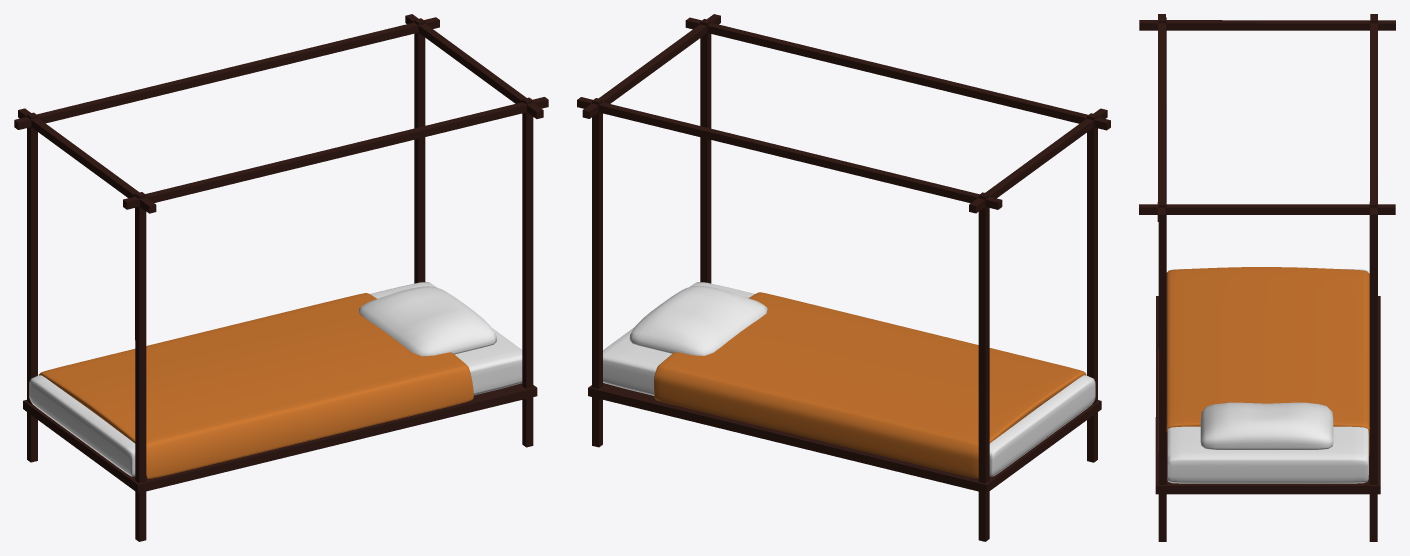
Rendered from bed.fbx.
3 views of the same model, side by side, from view 1: azimuth 30°, elevation 25°; view 2: azimuth 150°, elevation 25°; view 3: azimuth 270°, elevation 25° (orthographic). The views are drawn at different scales.
Parts seen in each view (by area): view 1: blanket, osnova.001, pillow, osnova, Cube.006, Cube.002, Cube.004, Cube.001, Cube.005, Cube.003, Cube.007, Cube.008; view 2: blanket, osnova.001, osnova, pillow, Cube.002, Cube.006, Cube.005, Cube.003, Cube.004, Cube.001, Cube.008, Cube.007; view 3: blanket, osnova.001, pillow, osnova, Cube.001, Cube.003, Cube.008, Cube.007, Cube.006, Cube.002, Cube.004.
Boxes of the visible parts, x1=… form: blanket: x1=39, y1=293, x2=473, y2=478; osnova.001: x1=29, y1=282, x2=522, y2=476; pillow: x1=358, y1=286, x2=496, y2=356; osnova: x1=23, y1=383, x2=537, y2=493; Cube.006: x1=123, y1=97, x2=548, y2=209; Cube.002: x1=14, y1=17, x2=439, y2=129; Cube.004: x1=135, y1=192, x2=146, y2=541; Cube.001: x1=522, y1=97, x2=533, y2=447; Cube.005: x1=27, y1=112, x2=37, y2=462; Cube.003: x1=414, y1=18, x2=425, y2=283; Cube.007: x1=405, y1=14, x2=543, y2=118; Cube.008: x1=18, y1=108, x2=156, y2=213; blanket: x1=654, y1=292, x2=1086, y2=478; osnova.001: x1=603, y1=282, x2=1095, y2=476; osnova: x1=588, y1=383, x2=1101, y2=493; pillow: x1=629, y1=285, x2=767, y2=355; Cube.002: x1=577, y1=97, x2=1002, y2=209; Cube.006: x1=685, y1=17, x2=1110, y2=130; Cube.005: x1=978, y1=192, x2=989, y2=541; Cube.003: x1=592, y1=98, x2=602, y2=447; Cube.004: x1=1087, y1=113, x2=1097, y2=462; Cube.001: x1=700, y1=19, x2=711, y2=283; Cube.008: x1=969, y1=108, x2=1107, y2=213; Cube.007: x1=582, y1=14, x2=720, y2=118; blanket: x1=1158, y1=267, x2=1369, y2=455; osnova.001: x1=1167, y1=269, x2=1368, y2=483; pillow: x1=1200, y1=402, x2=1333, y2=449; osnova: x1=1155, y1=296, x2=1380, y2=494; Cube.001: x1=1158, y1=201, x2=1166, y2=541; Cube.003: x1=1369, y1=201, x2=1377, y2=541; Cube.008: x1=1139, y1=20, x2=1395, y2=30; Cube.007: x1=1139, y1=204, x2=1395, y2=214; Cube.006: x1=1157, y1=14, x2=1165, y2=221; Cube.002: x1=1370, y1=14, x2=1377, y2=221; Cube.004: x1=1158, y1=17, x2=1166, y2=201.
Bounding box in the file's own units: 599 × 469 × 324.
